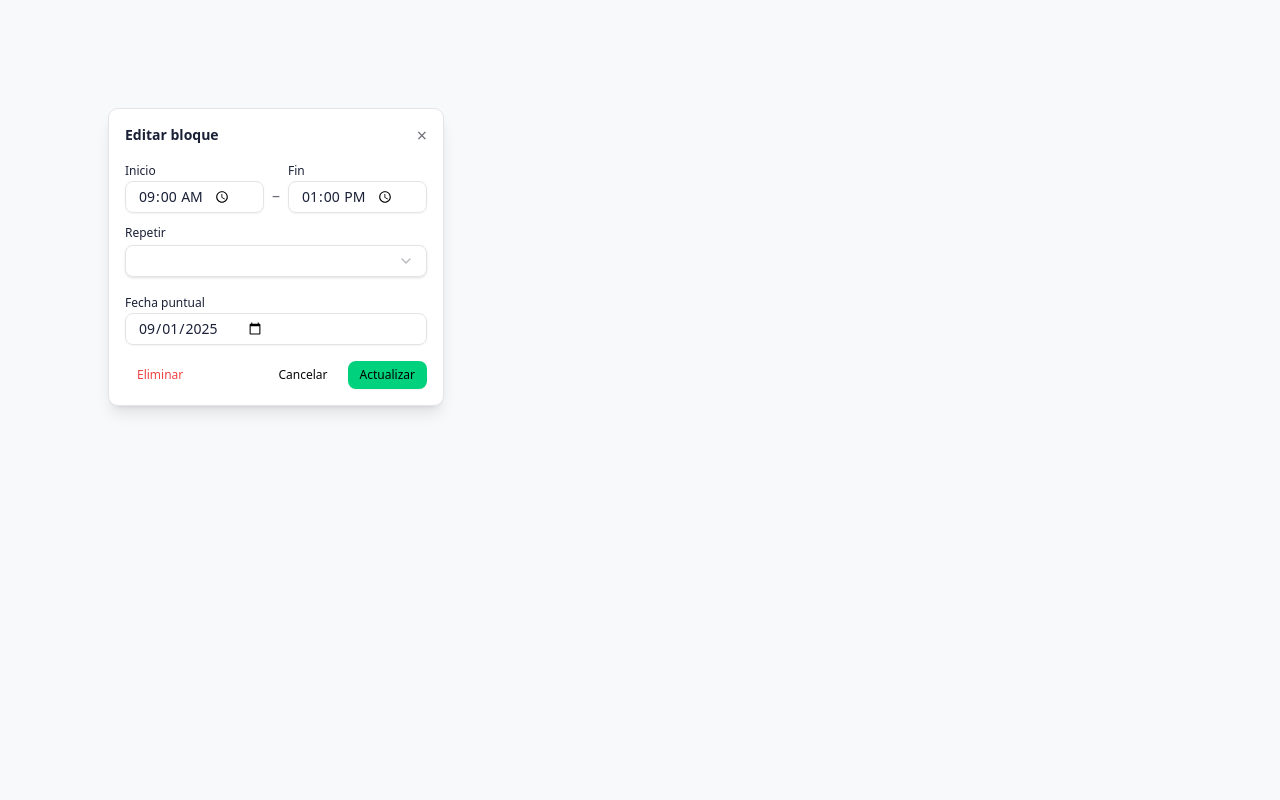
Scenario: BloquePopover — recurrent delete scope dialog (bug7 round-5 #1) › RED 5: one_off block → delete click shows simple confirm (no scope dialog)
Click the button with test id "btn-delete-block" at (160, 375), box x1=125 y1=361 x2=195 y2=389
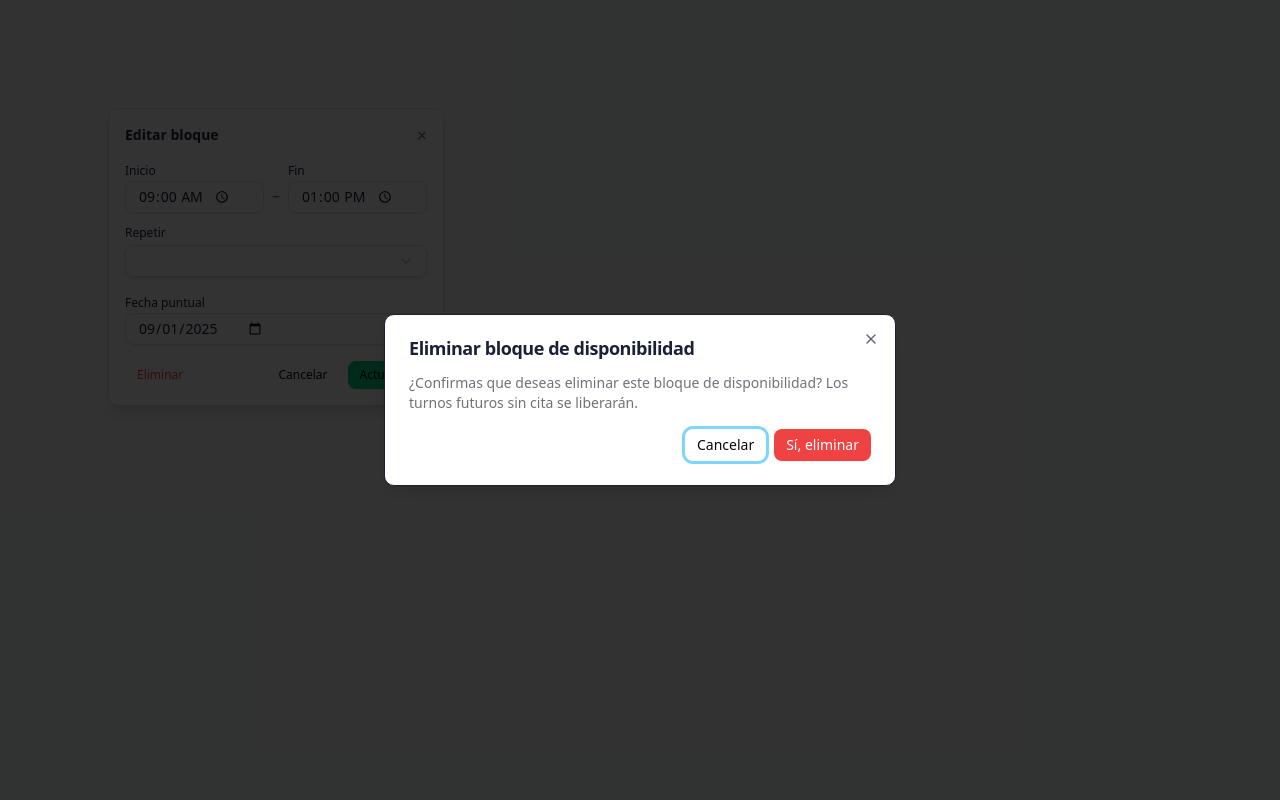
Expected: the button with test id "btn-delete-confirm" is shown, x1=774 y1=429 x2=871 y2=461
